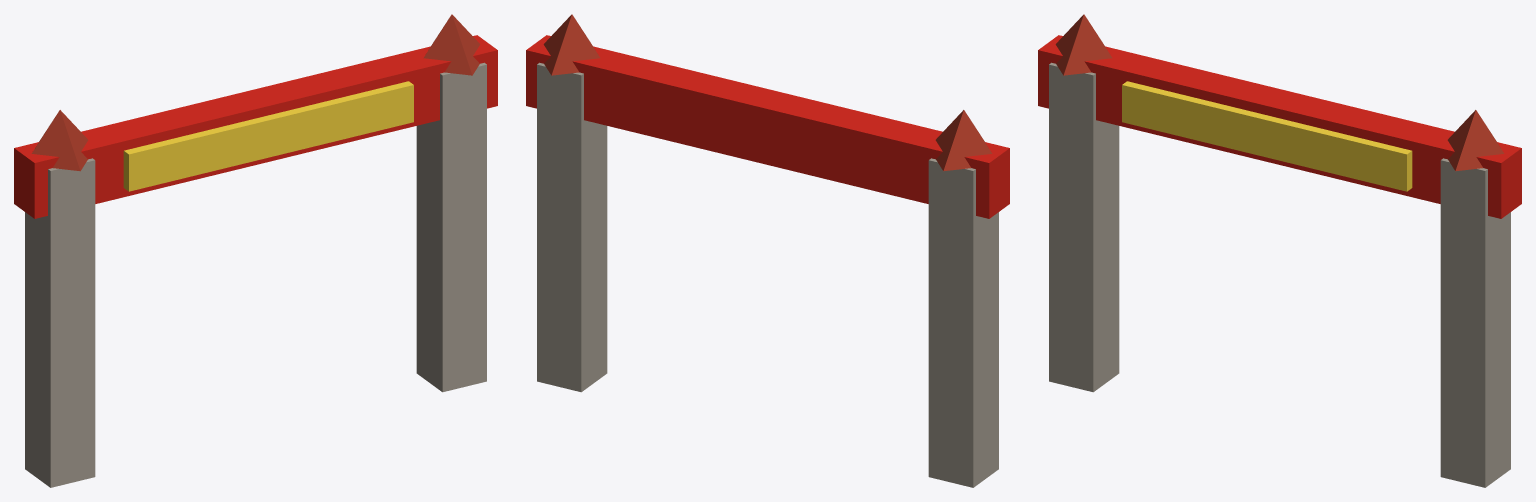
Rendered from zoo_gate.glb.
3 renders of one model, left to right at view 1: azimuth 30°, elevation 25°; view 2: azimuth 150°, elevation 25°; view 3: azimuth 330°, elevation 25°, orthographic.
Parts seen in each view (by area): view 1: zoo_gate; view 2: zoo_gate; view 3: zoo_gate.
Part boxes in pixels (bbox=[...]): zoo_gate: bbox=[14, 14, 497, 487]; zoo_gate: bbox=[526, 14, 1009, 487]; zoo_gate: bbox=[1038, 14, 1521, 487].
Bounding box in the file's own units: 5.2 × 3.9 × 0.8.
